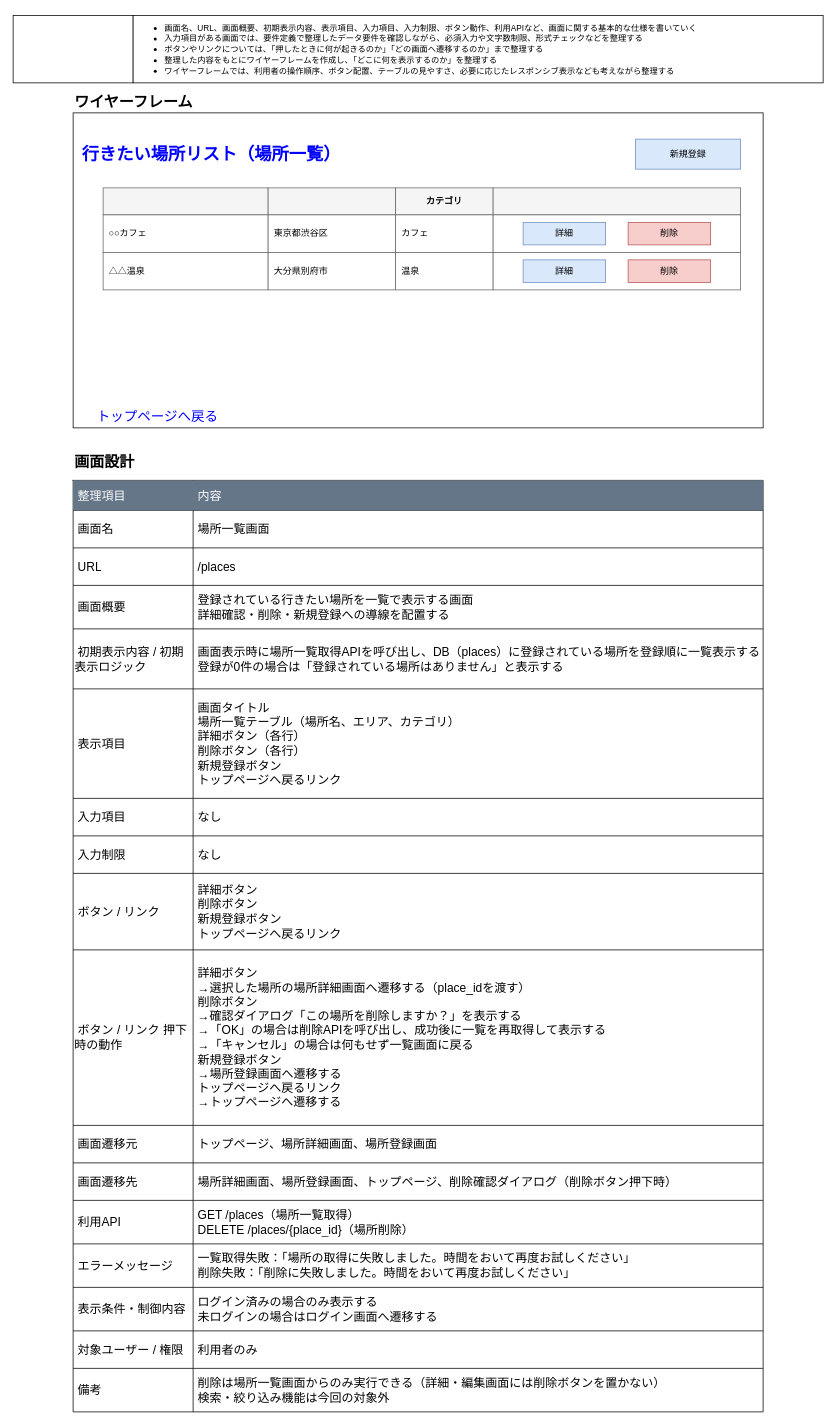
This 836x1425 diagram has some shape labels left out. The shapes that lost their labels are listed below. From the top down, each one's box as (x1, y1, x2, y2) in pixels, then its label:
(12, 15, 133, 83): 画面設計書
(102, 187, 268, 215): 場所名
(267, 187, 396, 215): エリア
(492, 187, 741, 215): 操作
